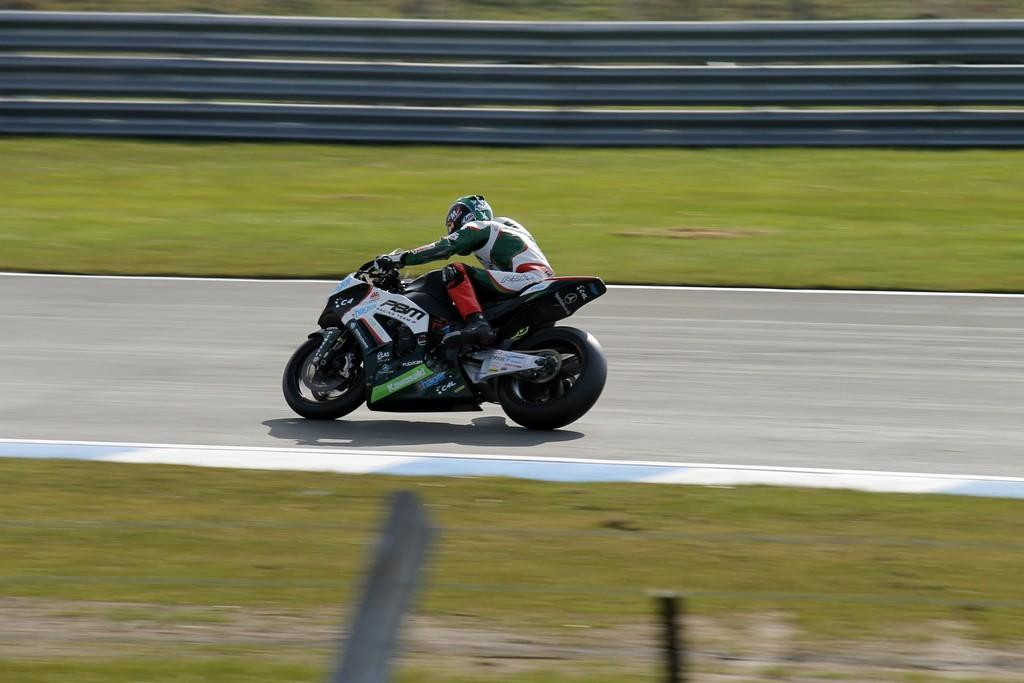helmet: (445, 194, 494, 256)
